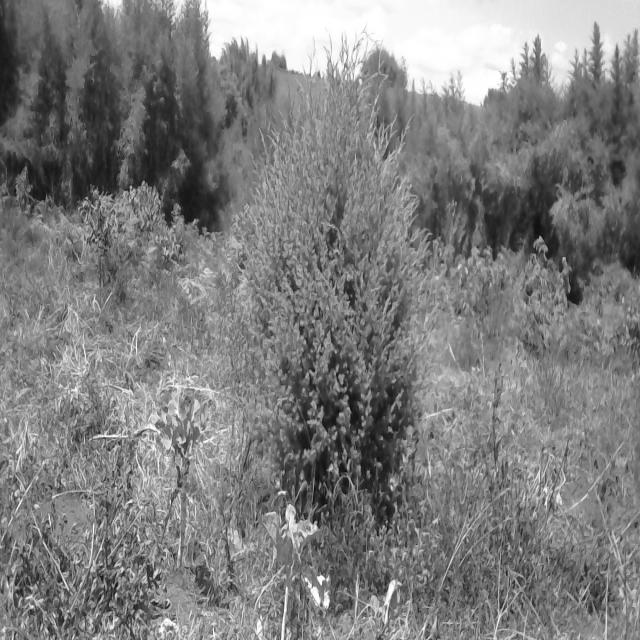Juniperus procesera: (246, 38, 434, 484)
